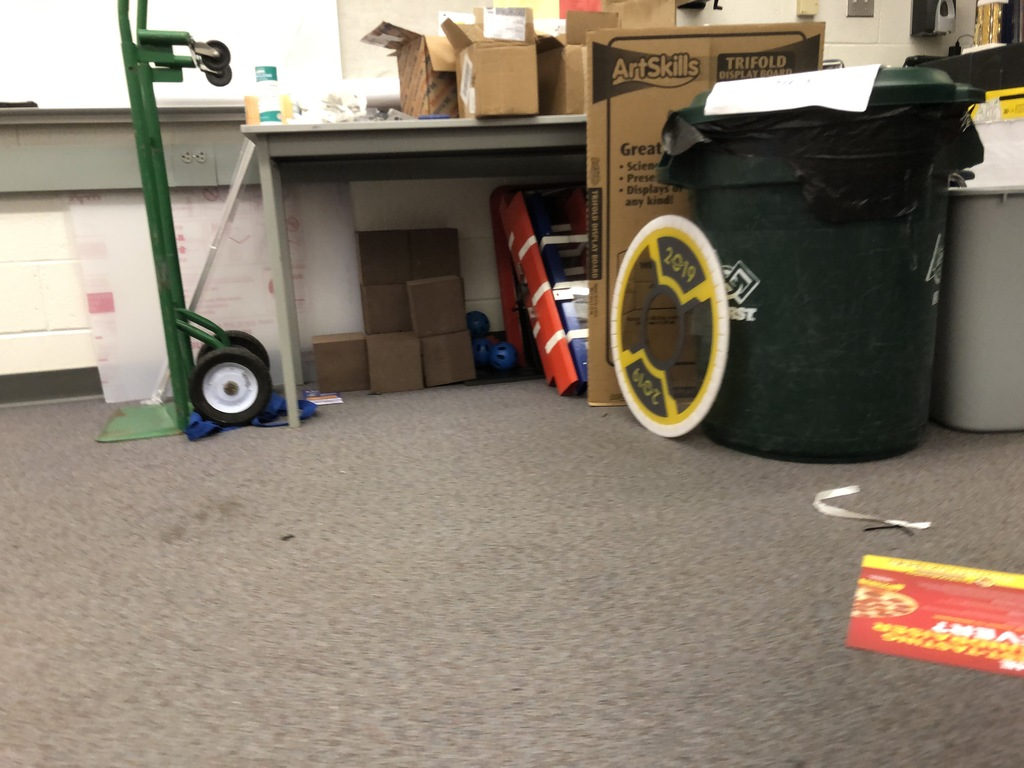hatch_panel: (603, 197, 732, 452)
